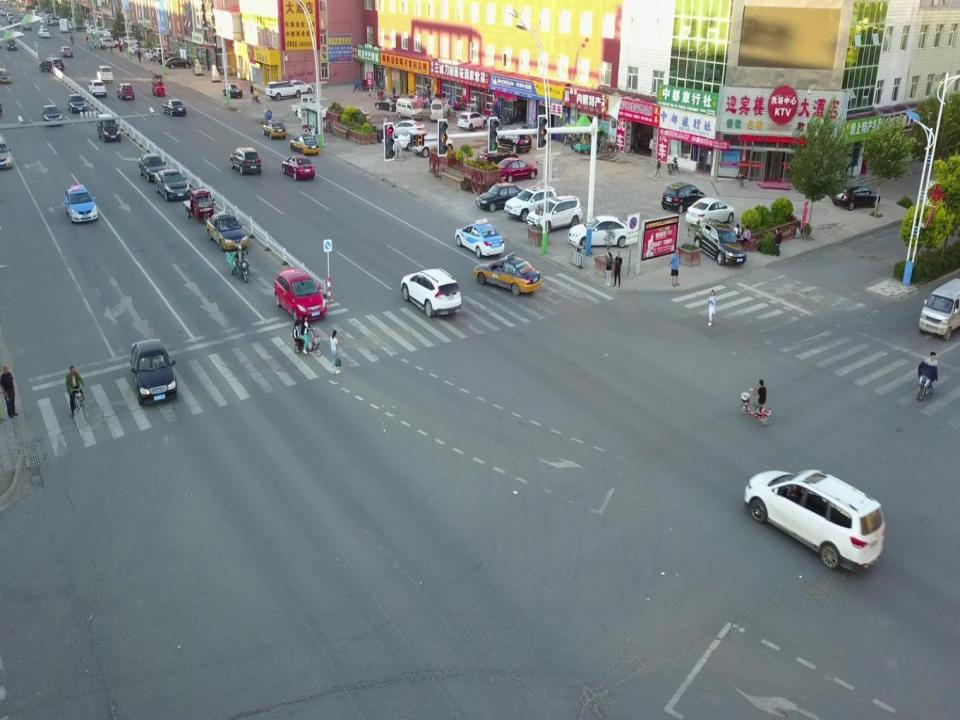car: (744, 466, 884, 571), (399, 266, 462, 318), (129, 339, 177, 405), (474, 252, 542, 296), (274, 269, 327, 325), (695, 219, 746, 266), (568, 215, 634, 248), (454, 217, 505, 259), (527, 195, 584, 231), (504, 185, 555, 223), (206, 212, 248, 252), (474, 183, 528, 214), (684, 197, 735, 227), (830, 183, 882, 212), (661, 183, 706, 214), (64, 185, 98, 224), (153, 168, 190, 202), (492, 159, 538, 185), (408, 134, 454, 158), (281, 154, 315, 182), (476, 145, 519, 167), (231, 147, 262, 176), (495, 128, 532, 152), (138, 154, 166, 184), (96, 112, 120, 144), (397, 130, 432, 150), (265, 81, 301, 100), (288, 134, 320, 154), (457, 110, 487, 131), (390, 121, 426, 138), (65, 91, 87, 113), (40, 104, 63, 125), (262, 120, 286, 140), (161, 99, 186, 118), (286, 79, 315, 95), (38, 56, 65, 72), (375, 94, 399, 111), (116, 82, 135, 101), (86, 80, 107, 97), (222, 82, 243, 99), (163, 56, 191, 68), (95, 65, 113, 83), (145, 46, 168, 60), (157, 51, 178, 63), (122, 36, 141, 48), (128, 44, 146, 56), (99, 37, 114, 49), (0, 68, 11, 84), (58, 46, 72, 58), (103, 28, 118, 39), (86, 24, 101, 35), (37, 28, 51, 39), (6, 38, 17, 52), (91, 27, 107, 36), (22, 21, 32, 31), (40, 24, 50, 32), (18, 10, 26, 19), (7, 16, 15, 24), (6, 12, 13, 21), (12, 20, 20, 27), (1, 8, 6, 16)
truck: (58, 19, 70, 33)
van: (917, 274, 960, 342), (396, 98, 424, 119), (430, 98, 444, 122)
